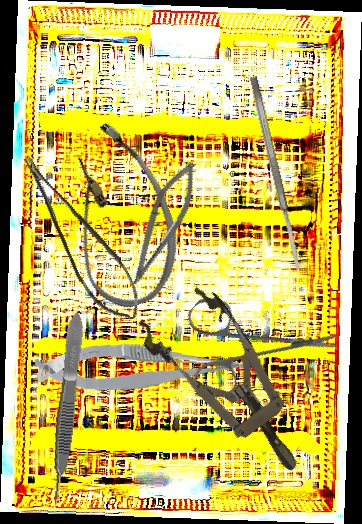Cannula: (38, 113, 198, 318)
Iris Scissors: (153, 251, 343, 440)
Micro Scissor: (18, 140, 150, 333), (33, 336, 259, 403), (123, 155, 205, 293)
Spatula Surgical: (247, 75, 304, 272)
Speculum: (131, 274, 329, 497)
Tissue Forceps: (44, 312, 88, 507)
